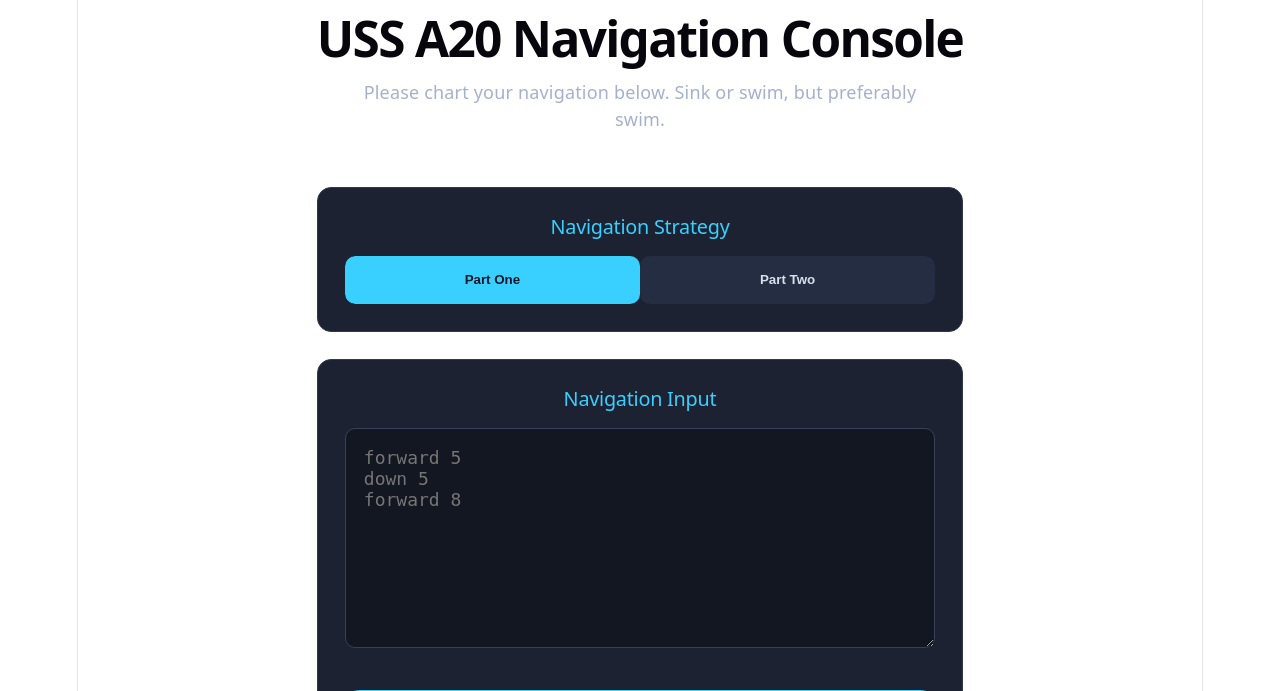
Test: NavigationSolver › shows regular error messages
The width and height of the screenshot is (1280, 691).
Type "forward 5" into the text box at coordinates (640, 538), box [345,428,935,648]
(page scrolled)
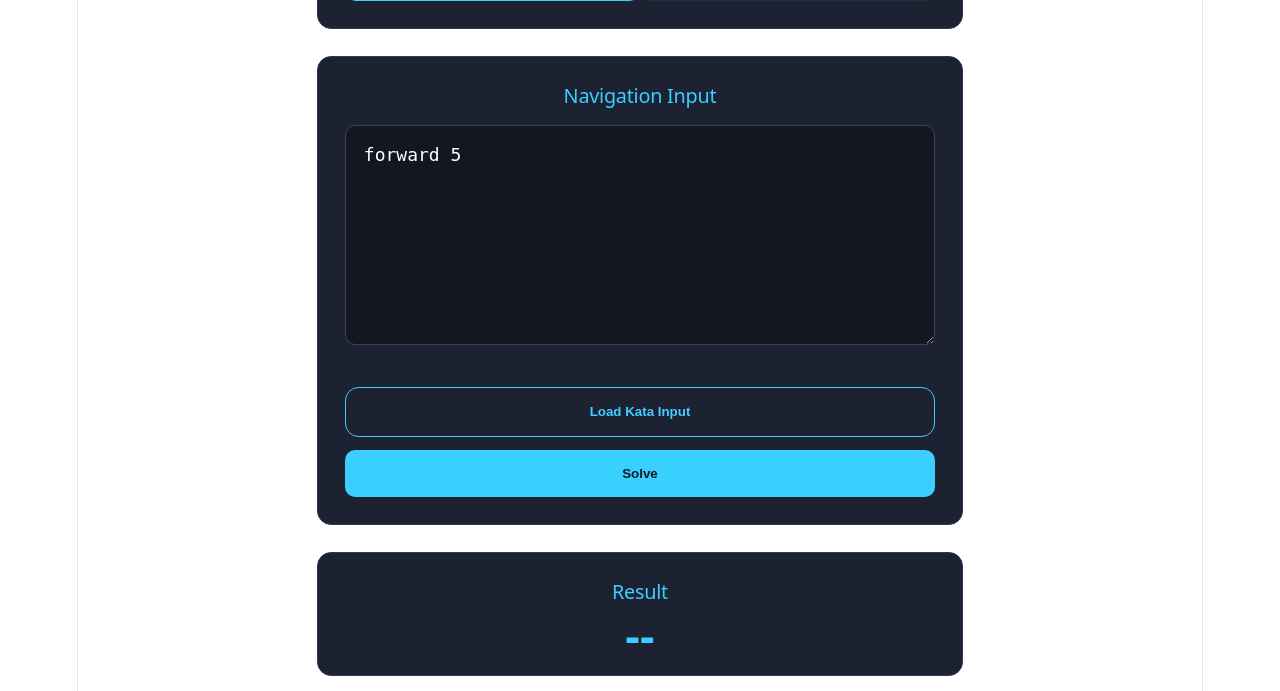
Click the button "Solve" at coordinates (640, 474), box [345,450,935,497]
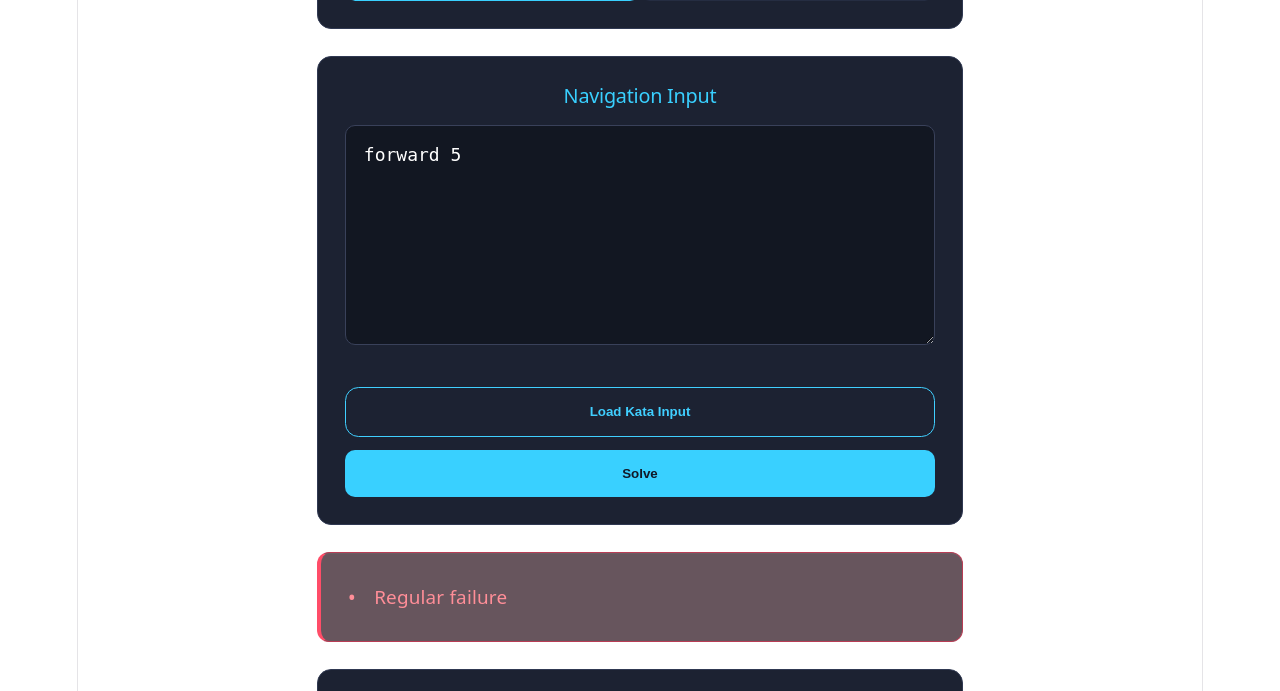
Expected: the message shows "Regular failure", [374,584,507,610]
